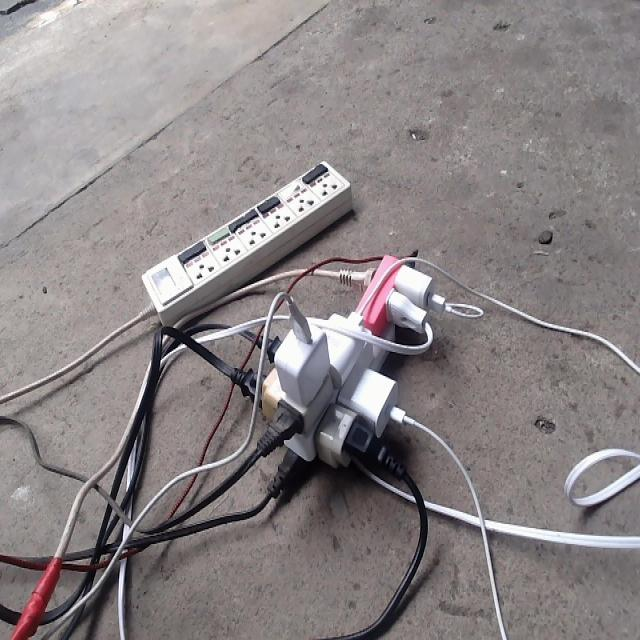-: (249, 251, 445, 493)
